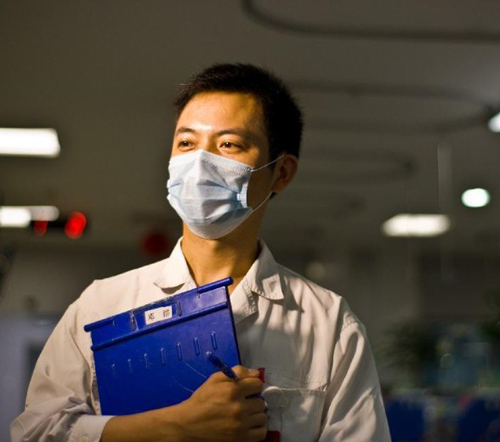face_mask: (169, 90, 269, 229)
